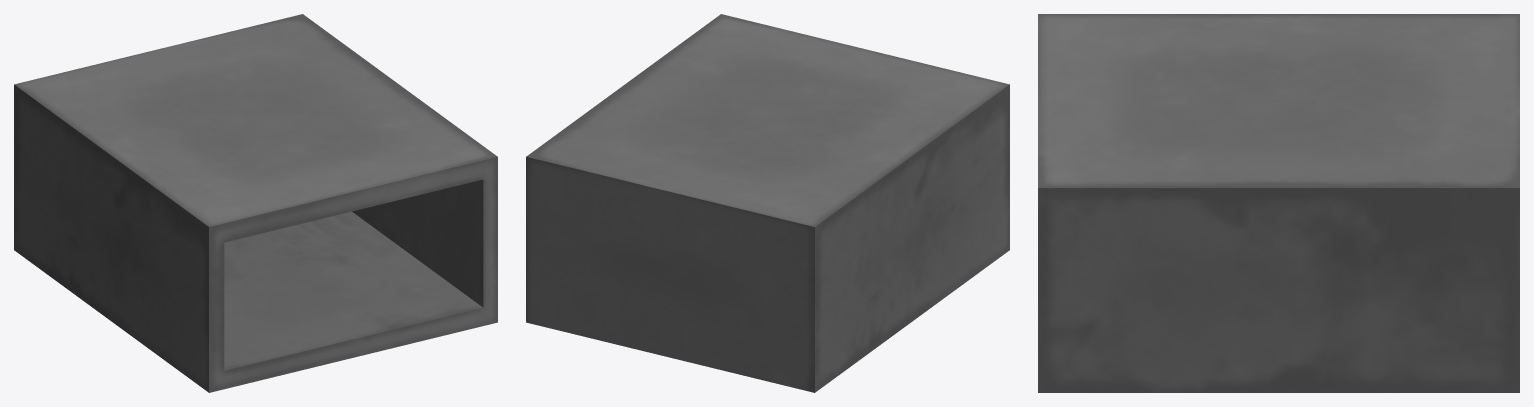
Rendered from SM_Cabinet.fbx.
The picture shows the model from 3 angles, left to right: view 1: azimuth 30°, elevation 25°; view 2: azimuth 150°, elevation 25°; view 3: azimuth 270°, elevation 25°; orthographic projection. The views are drawn at different scales.
Visible parts, largest first — view 1: Kitchen 2; view 2: Kitchen 2; view 3: Kitchen 2.
Part boxes in pixels (x1=…): Kitchen 2: x1=14, y1=14, x2=497, y2=392; Kitchen 2: x1=526, y1=14, x2=1009, y2=392; Kitchen 2: x1=1038, y1=14, x2=1519, y2=392.
Bounding box in the file's own units: 1.53 × 0.8392 × 1.79.
Materials: 1 (1 with a texture image).
